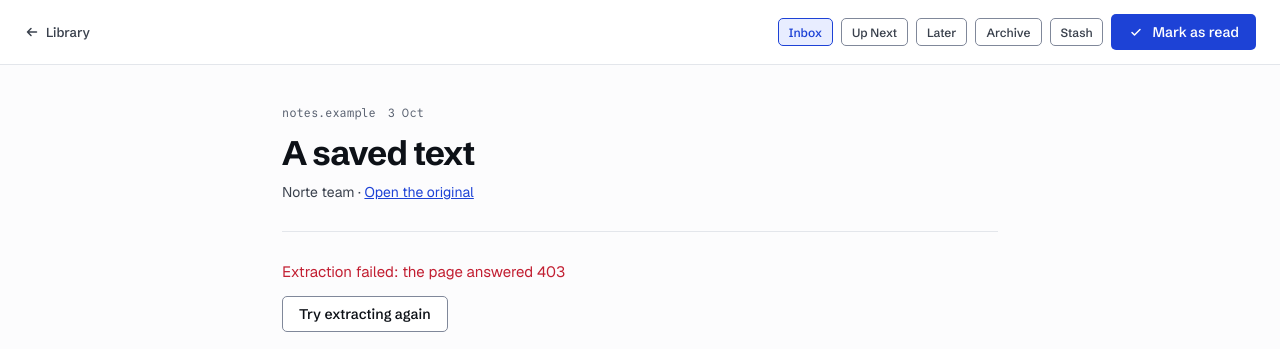
it: the reader when the extraction failed › shows the reason and queues another extraction from the button
This screenshot has width=1280, height=349.
Check: the message "Extraction failed: the page answered 403 Try extracting again" is shown, box [282,262,565,332]
What coordinates should you click on to do the following:
click the button "Try extracting again"
I would click on:
 (365, 314)
Its box is [282,296,448,332].
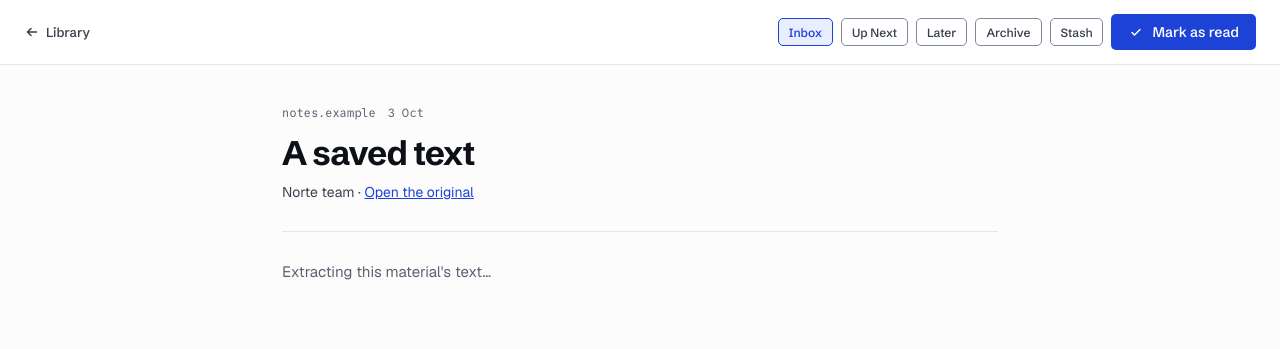
Check: the message "Extracting this material's text…" is shown, box [282,262,491,281]
